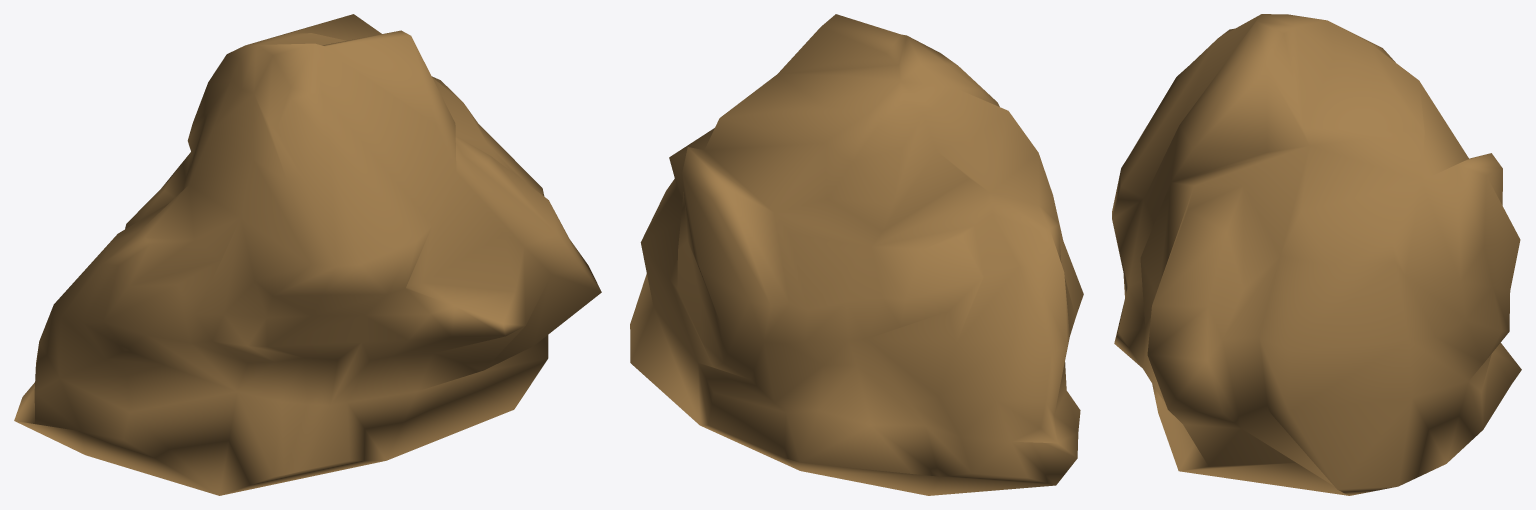
File: hill6.fbx
3 views of the same model, side by side, from view 1: azimuth 30°, elevation 25°; view 2: azimuth 150°, elevation 25°; view 3: azimuth 270°, elevation 25° (orthographic). The views are drawn at different scales.
Visible parts, largest first — view 1: pCube6; view 2: pCube6; view 3: pCube6.
Boxes of the visible parts, x1=… form: pCube6: x1=14, y1=14, x2=601, y2=495; pCube6: x1=630, y1=14, x2=1083, y2=495; pCube6: x1=1112, y1=14, x2=1521, y2=495.
Bounding box in the file's own units: 51.91 × 39.58 × 37.23.
